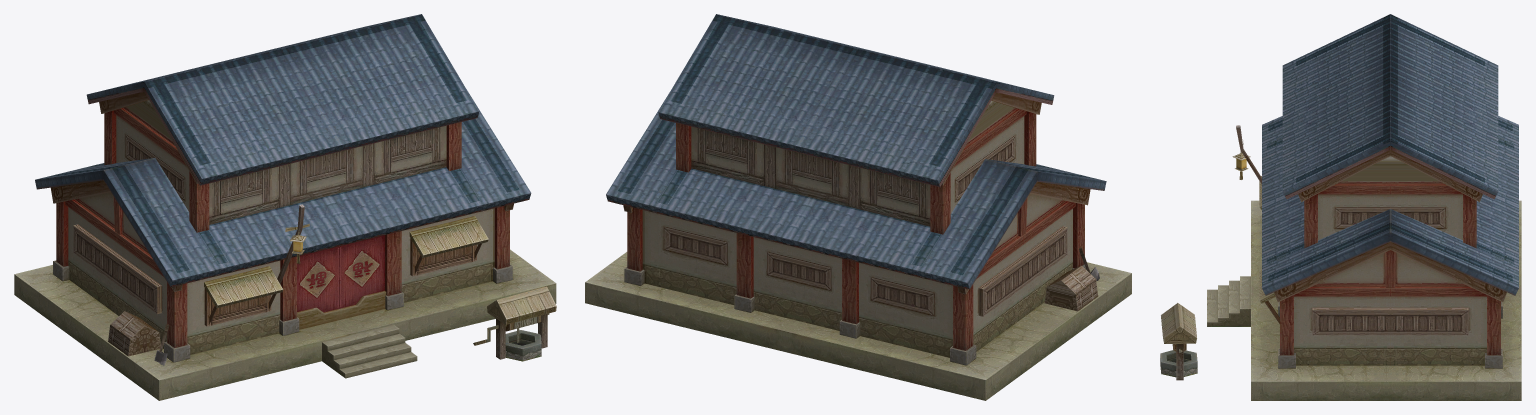
The picture shows the model from 3 angles, left to right: view 1: azimuth 30°, elevation 25°; view 2: azimuth 150°, elevation 25°; view 3: azimuth 270°, elevation 25°; orthographic projection. The views are drawn at different scales.
Parts seen in each view (by area): view 1: gujian_395; view 2: gujian_395; view 3: gujian_395.
Boxes of the visible parts, left/top/right/bottom form: gujian_395: left=14, top=14, right=556, bottom=400; gujian_395: left=585, top=14, right=1131, bottom=400; gujian_395: left=1160, top=14, right=1521, bottom=400.
Bounding box in the file's own units: 1.81 × 1.1 × 1.53.
Materials: 1 (1 with a texture image).
